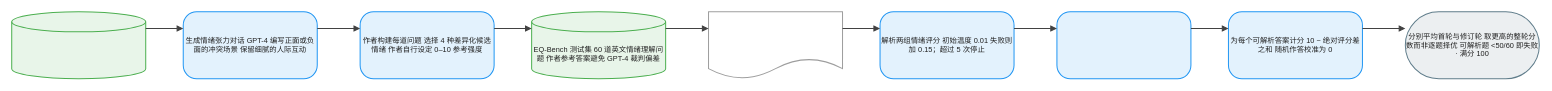
The diagram is 1552 pixels wide and 91 high, and some of its shapes have lost their labels. The shapes that lost their labels are listed below. From the top down, each one's centre as x and y in pixels, then its label:
[78,45]: 随机采样多样化对话种子 地点 · 作者风格 冲突 / 紧张的宽泛情境
[775,45]: 使用原始零样本提示 首轮 0–10 评分 → 逐步批评 按可解析格式给出修订评分
[1123,45]: 将每组 4 情绪归一化为总和 10 对比模型与归一化参考向量 聚焦相对情绪强度
